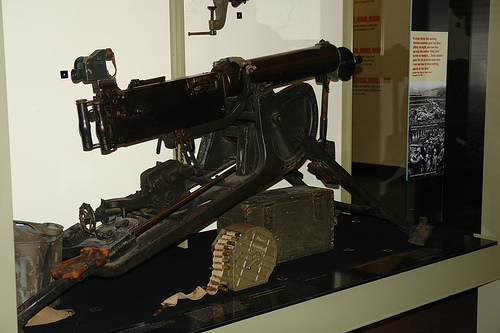rifle: (62, 30, 356, 168)
